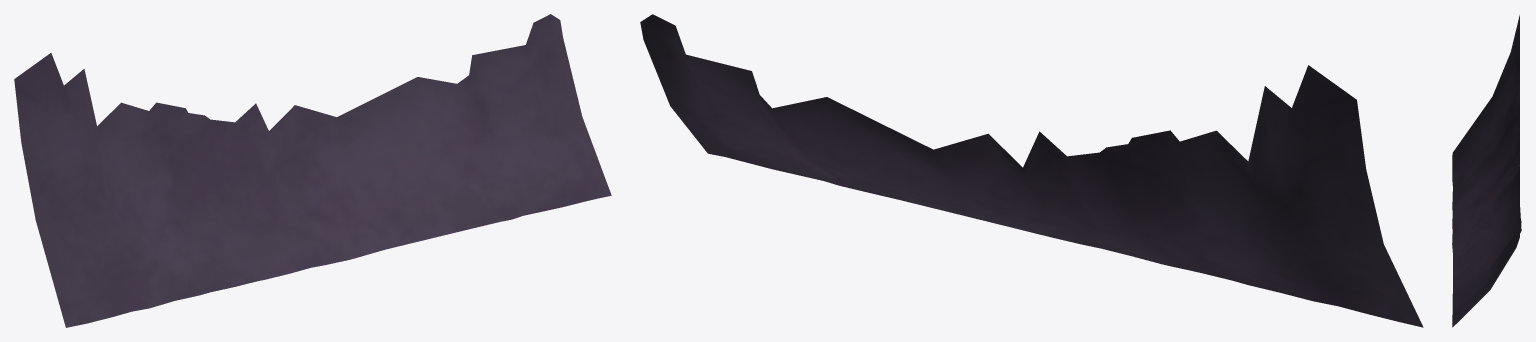
File: Background2.fbx
The picture shows the model from 3 angles, left to right: view 1: azimuth 30°, elevation 25°; view 2: azimuth 150°, elevation 25°; view 3: azimuth 270°, elevation 25°; orthographic projection. The views are drawn at different scales.
Parts seen in each view (by area): view 1: Background2_Reto; view 2: Background2_Reto; view 3: Background2_Reto.
Part boxes in pixels (<box>): Background2_Reto: <box>14,14,611,327</box>; Background2_Reto: <box>640,14,1423,327</box>; Background2_Reto: <box>1452,15,1521,327</box>.
Bounding box in the file's own units: 1645 × 661 × 277.
